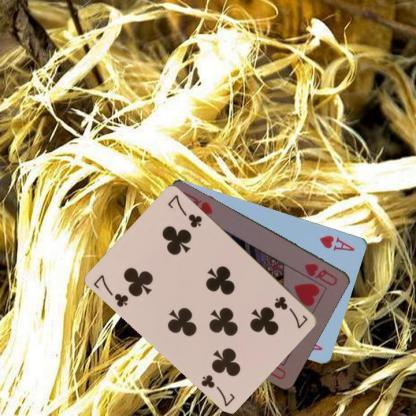7c: (91, 272, 130, 309), (272, 293, 310, 330)
Ah: (317, 232, 357, 252)
Qh: (302, 261, 339, 287)
